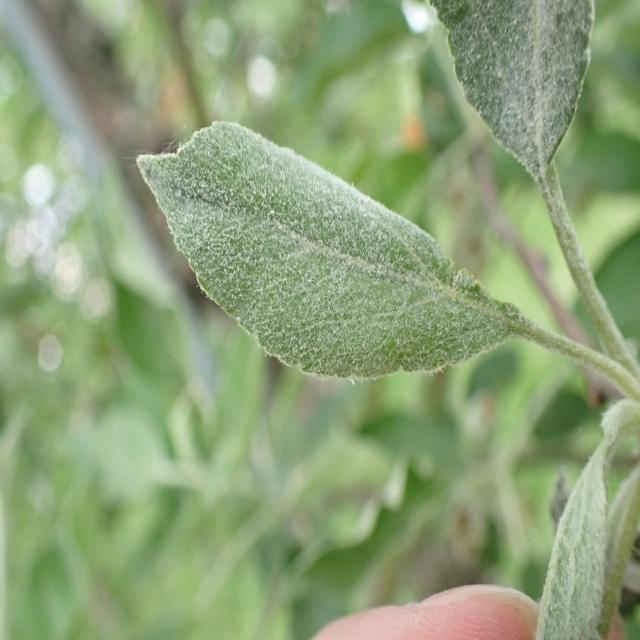Powdery_mildew: (135, 114, 536, 402), (427, 0, 612, 257), (524, 406, 640, 640)
